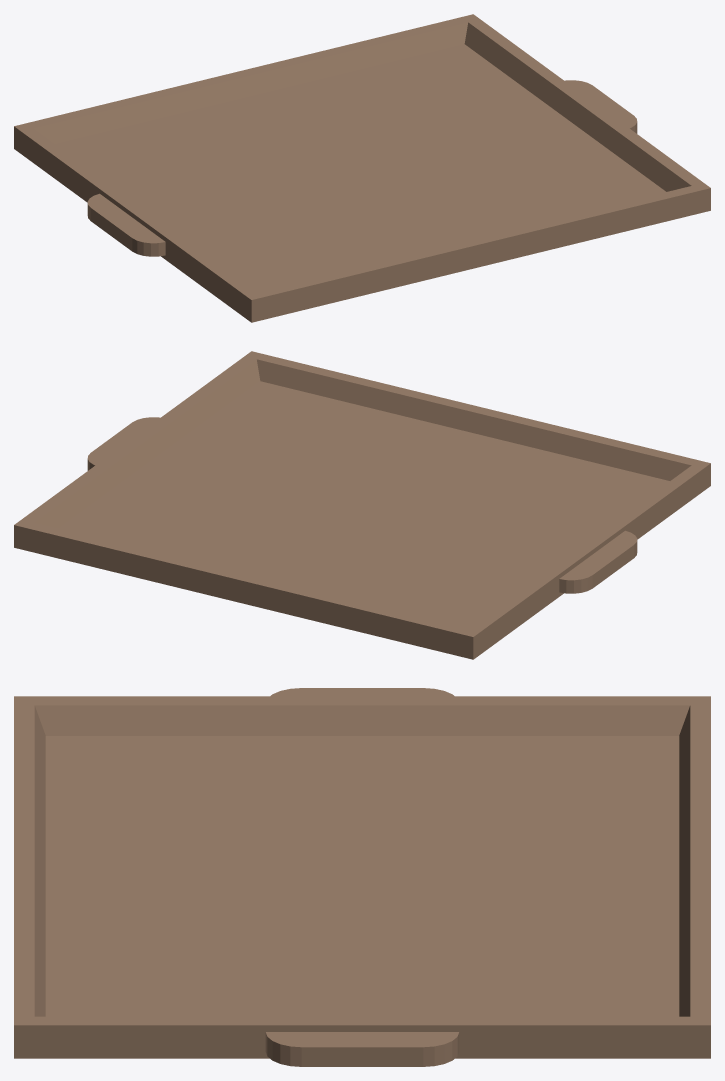
File: Salver.fbx
3 renders of one model, top to bottom at view 1: azimuth 30°, elevation 25°; view 2: azimuth 150°, elevation 25°; view 3: azimuth 270°, elevation 25°, orthographic. The views are drawn at different scales.
Visible parts, largest first — view 1: Salver; view 2: Salver; view 3: Salver.
Boxes of the visible parts, bbox=[...] form: Salver: bbox=[14, 14, 710, 322]; Salver: bbox=[14, 351, 710, 659]; Salver: bbox=[14, 688, 710, 1066].
Bounding box in the file's own units: 1.18 × 0.0507 × 0.9642.
